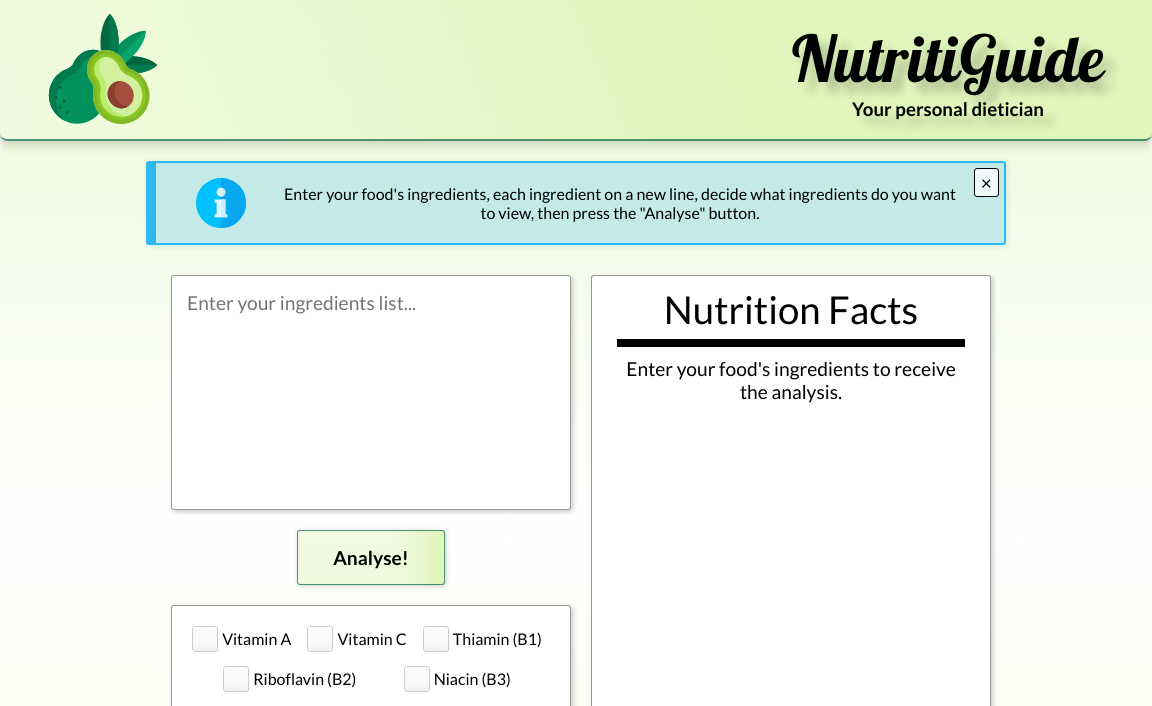
Test case: Testing the notifications › renders the error notification when a server error occurs
The width and height of the screenshot is (1152, 706).
Type "SERVER_ERROR" into the text box with placeholder "Enter your ingredients list...".
click(371, 392); type("SERVER_ERROR")  # box [171, 275, 571, 510]
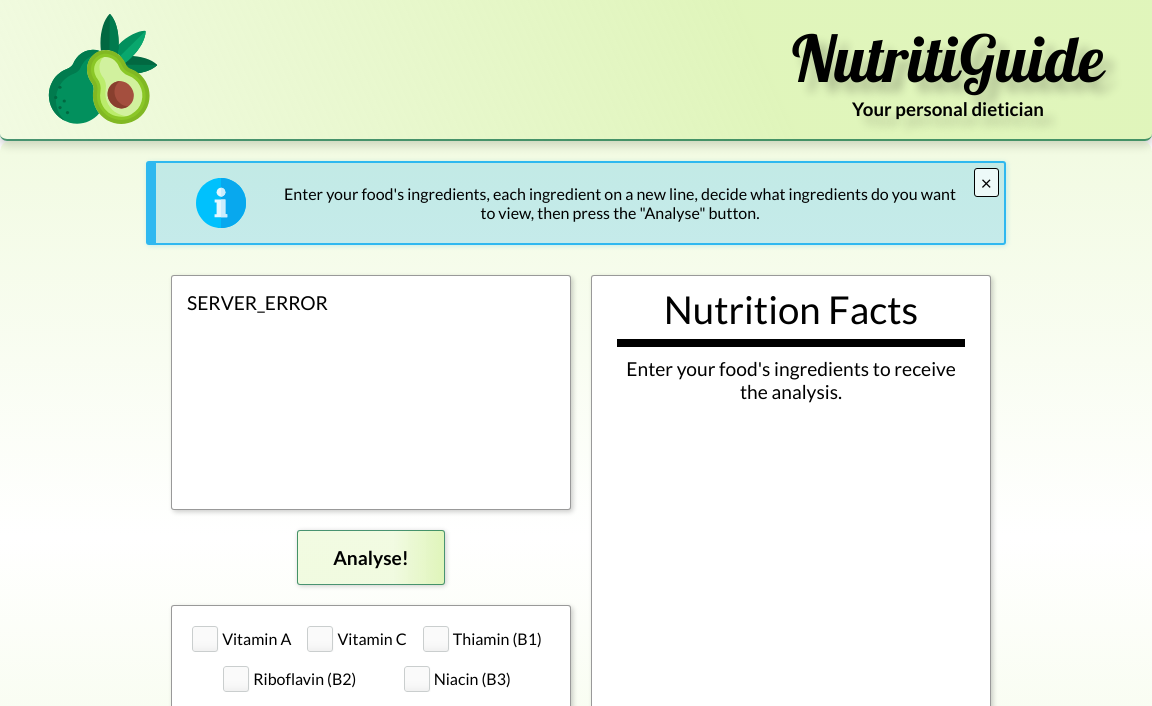
Click the button "Analyse!".
click(371, 557)  # box [297, 530, 445, 585]
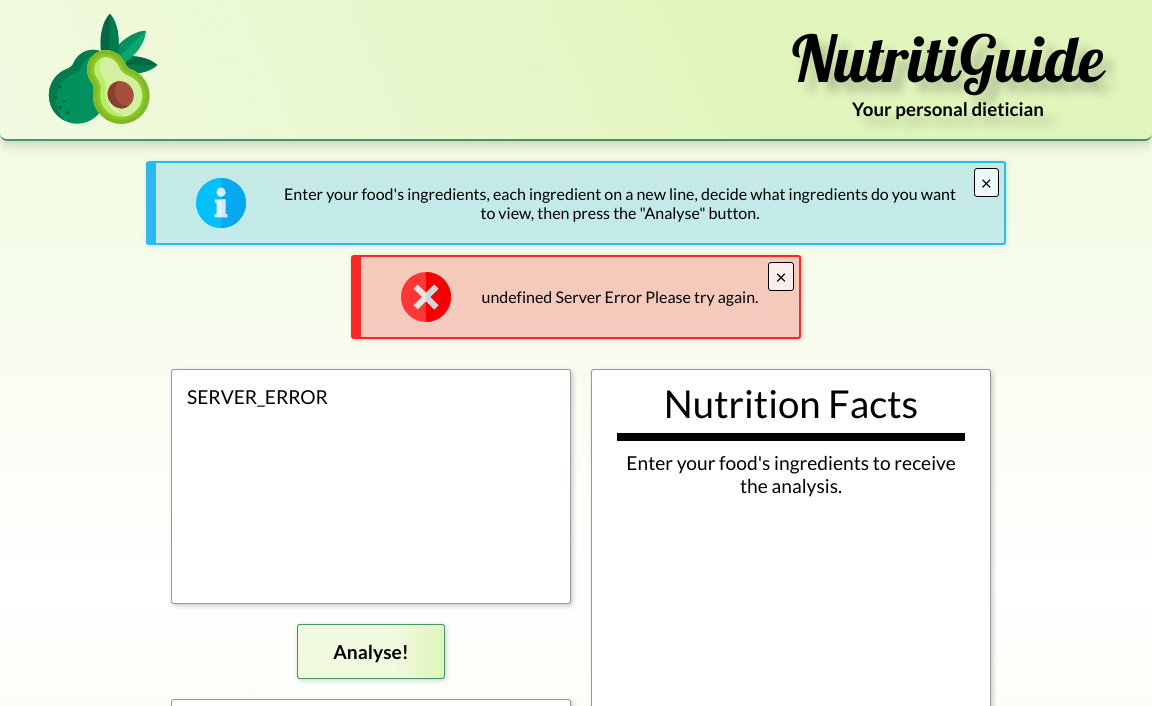
Expected: the list item "Please try again" is shown, [482, 287, 758, 306]
